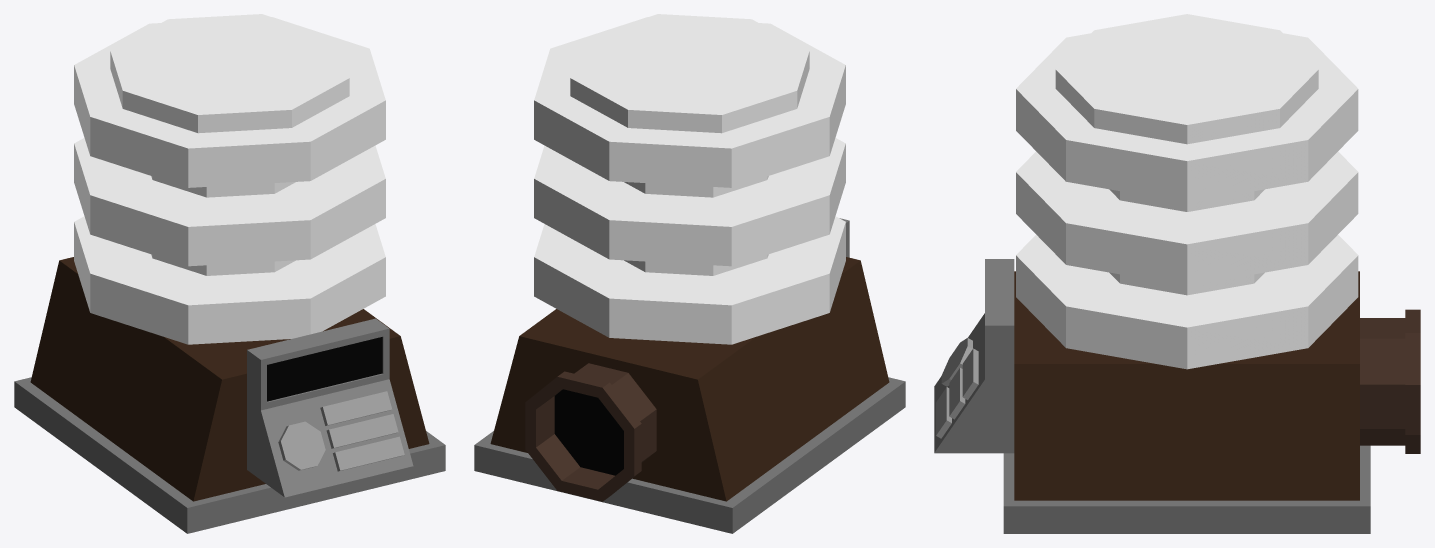
Rendered from ShieldGenerator.fbx.
3 renders of one model, left to right at view 1: azimuth 30°, elevation 25°; view 2: azimuth 150°, elevation 25°; view 3: azimuth 270°, elevation 25°, orthographic. The views are drawn at different scales.
Visible parts, largest first — view 1: Cylinder.049, Cube.064, Cylinder.056, Cylinder.057, Cylinder.058, Cylinder.059; view 2: Cylinder.049, Cube.064, Cylinder.047; view 3: Cylinder.049, Cube.064, Cylinder.047, Cylinder.058, Cylinder.056, Cylinder.057, Cylinder.059.
Boxes of the visible parts, box(x1,y1,x2,y2) form: Cylinder.049: box(74, 14, 385, 344); Cube.064: box(14, 257, 445, 533); Cylinder.056: box(278, 421, 325, 470); Cylinder.057: box(326, 414, 398, 448); Cylinder.058: box(320, 391, 392, 425); Cylinder.059: box(333, 436, 404, 471); Cylinder.049: box(534, 14, 845, 344); Cube.064: box(474, 218, 905, 533); Cylinder.047: box(525, 363, 656, 501); Cylinder.049: box(1016, 14, 1358, 369); Cube.064: box(934, 259, 1370, 533); Cylinder.047: box(1360, 309, 1420, 453); Cylinder.058: box(962, 348, 978, 399); Cylinder.056: box(941, 337, 972, 386); Cylinder.057: box(949, 368, 965, 419); Cylinder.059: box(936, 387, 951, 438).
Bounding box in the file's own units: 94.05 × 120 × 134.
